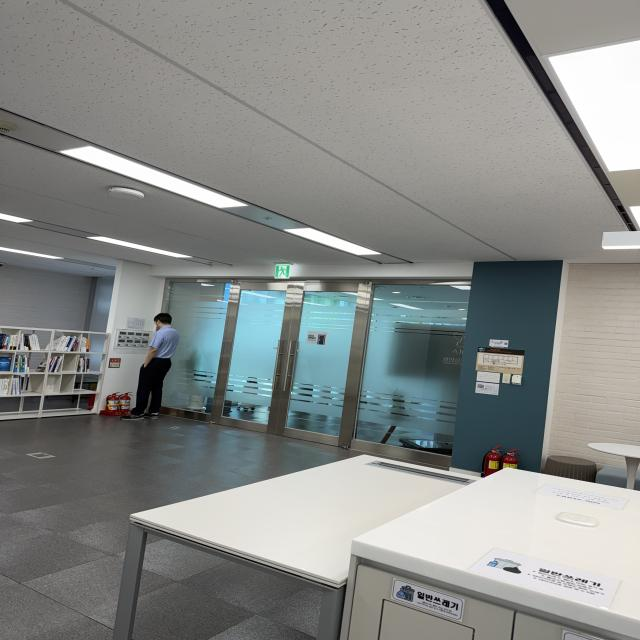front_door: (162, 276, 470, 468)
